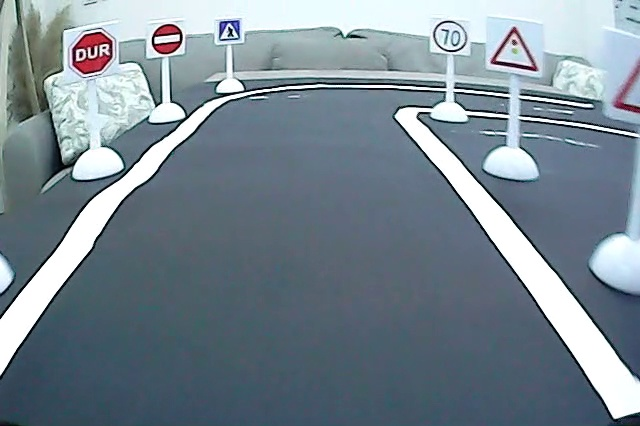do not enter: (149, 21, 185, 58)
pedestrian crossing: (216, 18, 242, 43)
red light: (487, 22, 543, 75)
speed limit 70: (432, 18, 469, 55)
stop sign: (68, 27, 118, 78)
